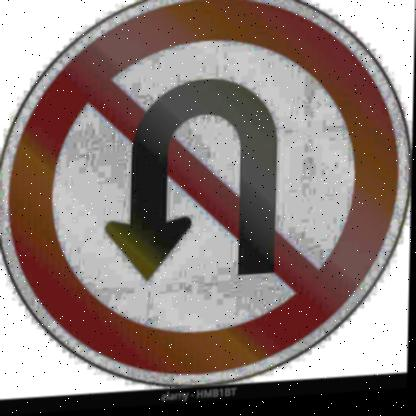No U-turn: (0, 0, 416, 403)
